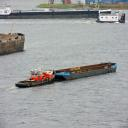tugboat: (15, 66, 56, 90), (96, 11, 127, 26)
